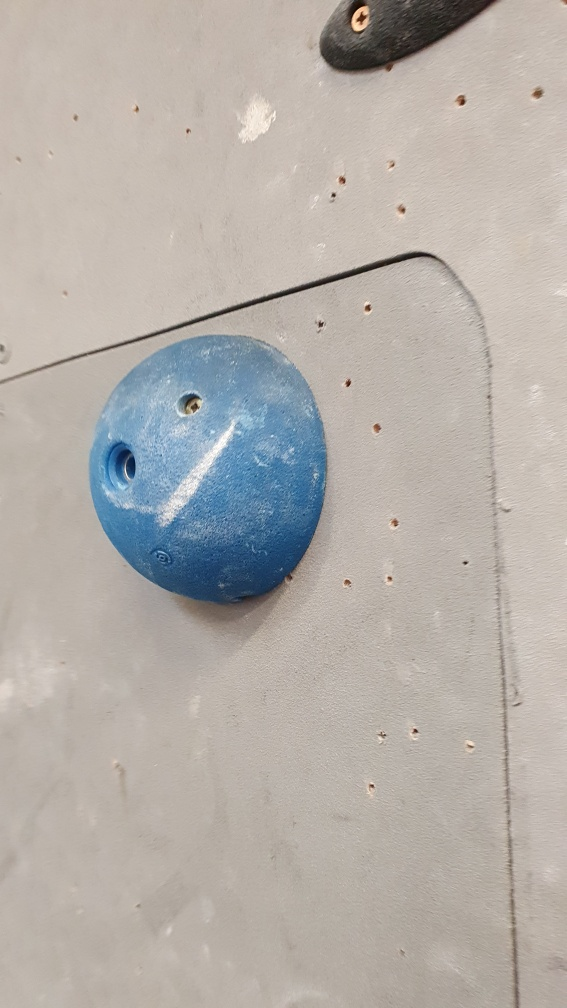Sloper: (84, 332, 328, 612)
